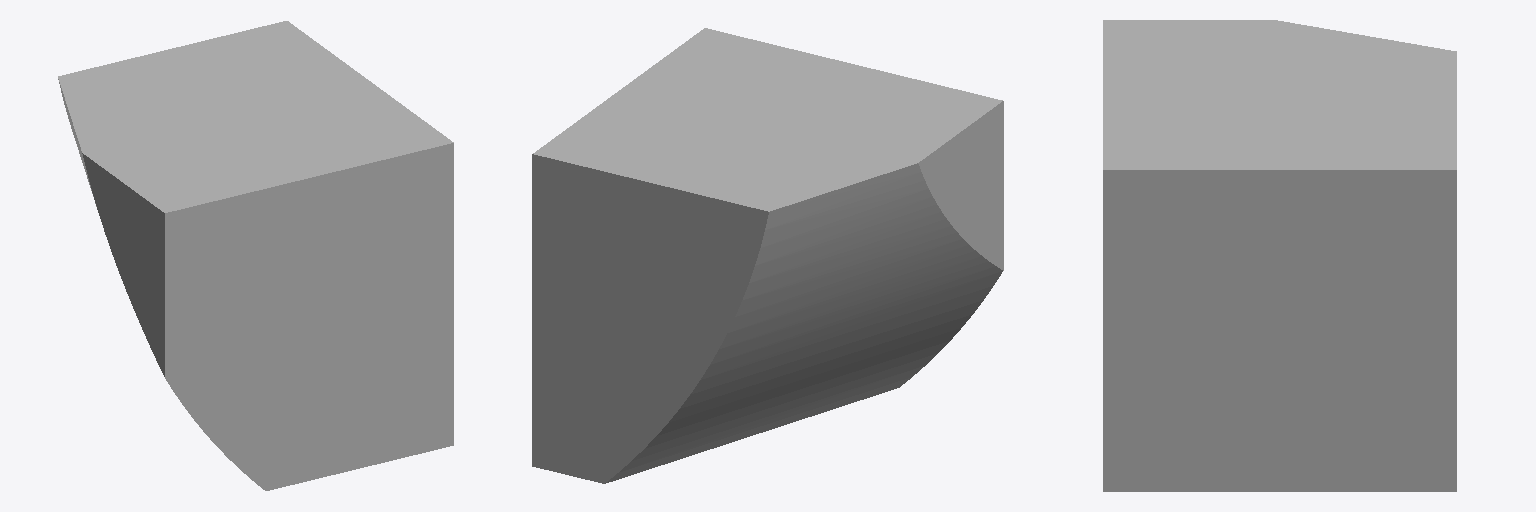
URDF robot description (root):
<?xml version='1.0' encoding='utf-8'?>
<robot name="root">
  <link name="link_001">
    <visual>
      <origin xyz="0 0 0" rpy="0 0 0" />
      <geometry>
        <mesh filename="88f5ccad17d7a5e2667b59f14010e6ecb2f58c109c98f7dfb0294aac81539420_scale_011.stl" scale="1.0000E+00 1.0000E+00 1.0000E+00" />
      </geometry>
      <material name="">
        <color rgba="7.50E-01 7.50E-01 7.50E-01 1" />
      </material>
    </visual>
    <collision>
      <origin xyz="0 0 0" rpy="0 0 0" />
      <geometry>
        <mesh filename="88f5ccad17d7a5e2667b59f14010e6ecb2f58c109c98f7dfb0294aac81539420_scale_011.stl" scale="1.0000E+00 1.0000E+00 1.0000E+00" />
      </geometry>
    </collision>
  </link>
</robot>

--- Facts derived from the render (not from the file) ---
Views: 3 orthographic renders of the robot side by side, from view 1: azimuth 30°, elevation 25°; view 2: azimuth 150°, elevation 25°; view 3: azimuth 270°, elevation 25°.
Model root with 1 links and 0 joints (none), rooted at link_001, posed all joints at 0.
Links seen in each view (by area): view 1: link_001; view 2: link_001; view 3: link_001.
Boxes of the visible links, x1,y1,x2,y2 form: link_001: (58, 21, 453, 490); link_001: (532, 28, 1003, 483); link_001: (1103, 20, 1456, 491).
Size in the robot's own frame: 0.11 by 0.11 by 0.11 metres.
Meshes: 1 distinct files referenced, 1 mesh visuals loaded (1 binary STL).
